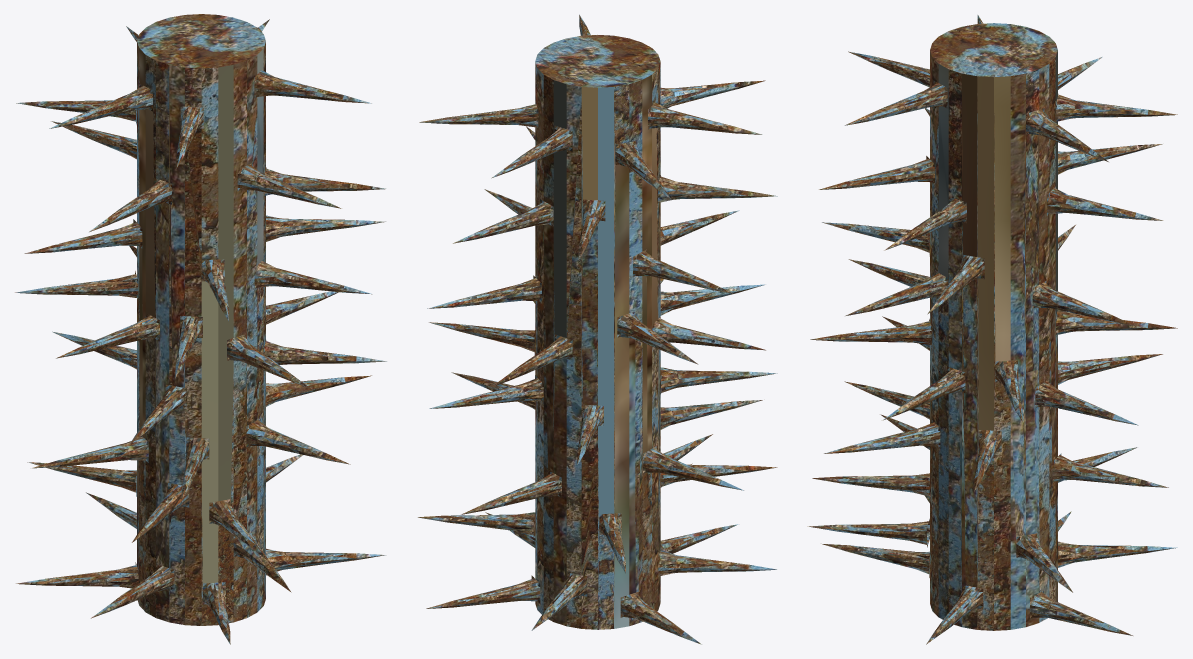
File: Maso.fbx
The picture shows the model from 3 angles, left to right: view 1: azimuth 30°, elevation 25°; view 2: azimuth 150°, elevation 25°; view 3: azimuth 270°, elevation 25°; orthographic projection. The views are drawn at different scales.
Parts seen in each view (by area): view 1: Camera; view 2: Camera; view 3: Camera.
Boxes of the visible parts, x1=… form: Camera: x1=15, y1=14, x2=386, y2=644; Camera: x1=418, y1=14, x2=777, y2=644; Camera: x1=807, y1=15, x2=1177, y2=644.
Bounding box in the file's own units: 1.93 × 3.18 × 1.93.
1 material, 1 textured.
